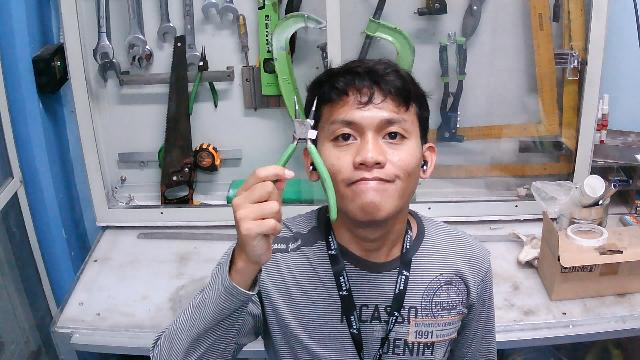tang_cucut_lancip_1: (228, 92, 354, 236)
